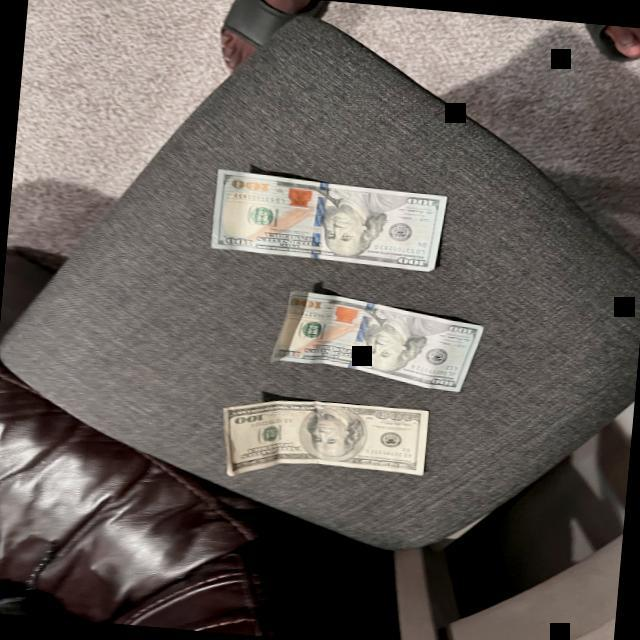hundred: (208, 167, 447, 270), (267, 289, 483, 392), (220, 399, 429, 475)
